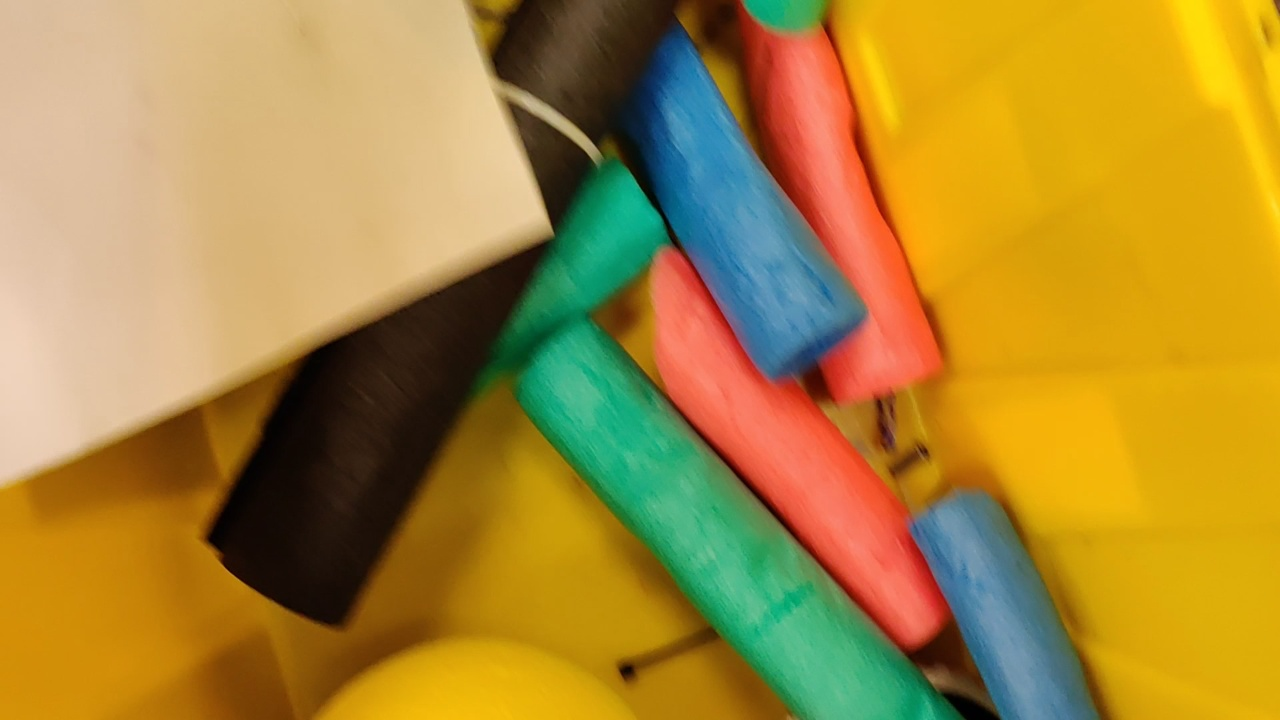Ball: (305, 636, 642, 720)
